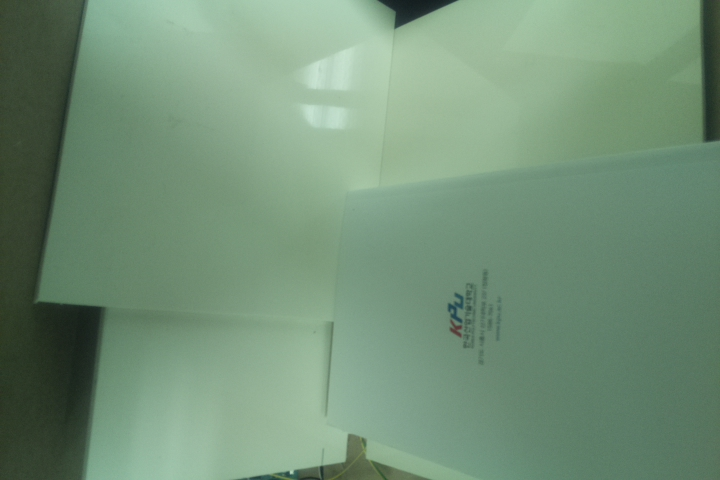book: (322, 138, 720, 480)
